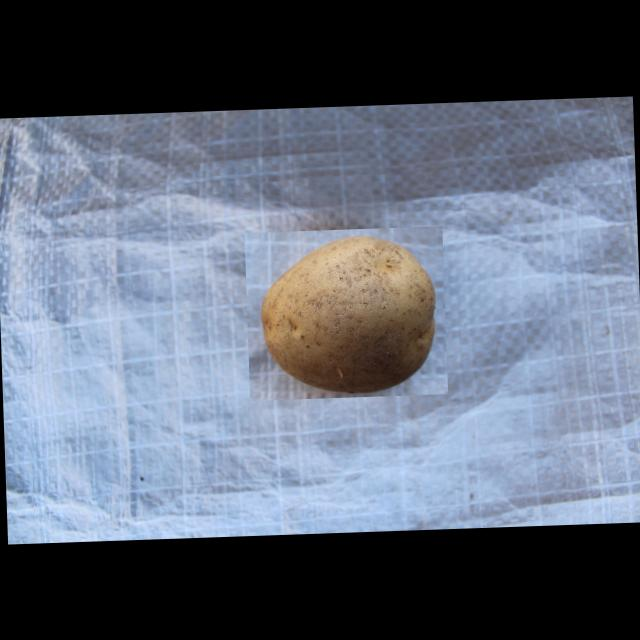Diseased-fungal potato: (244, 226, 448, 400)
